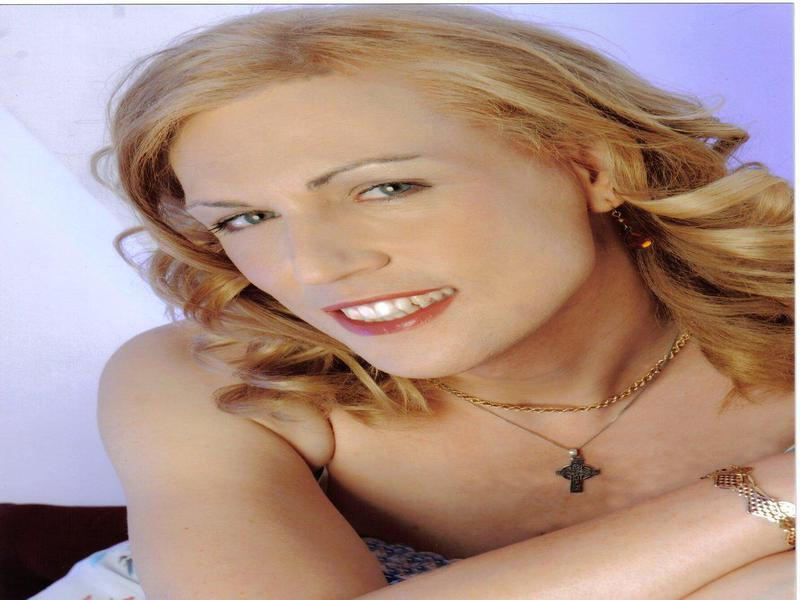person: (96, 12, 799, 597)
